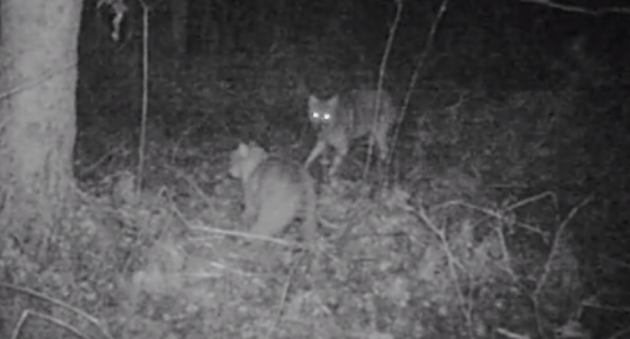bobcat: (206, 129, 334, 255)
coyote: (289, 74, 405, 186)
